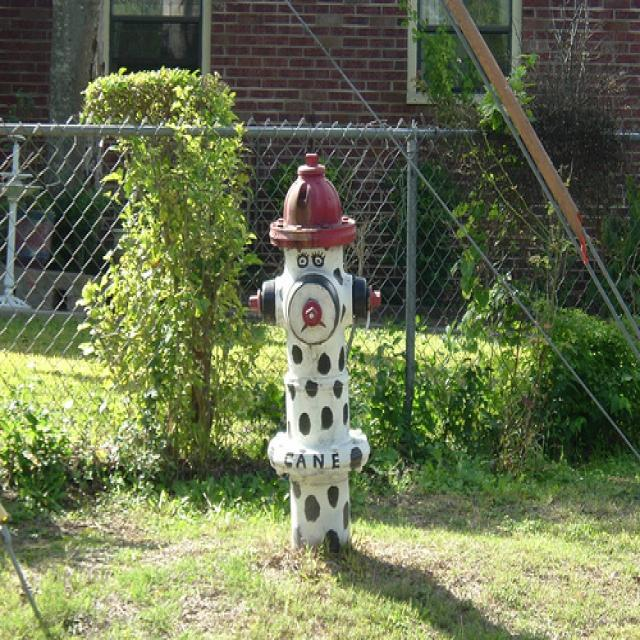fire_hydrant: (248, 150, 378, 553)
